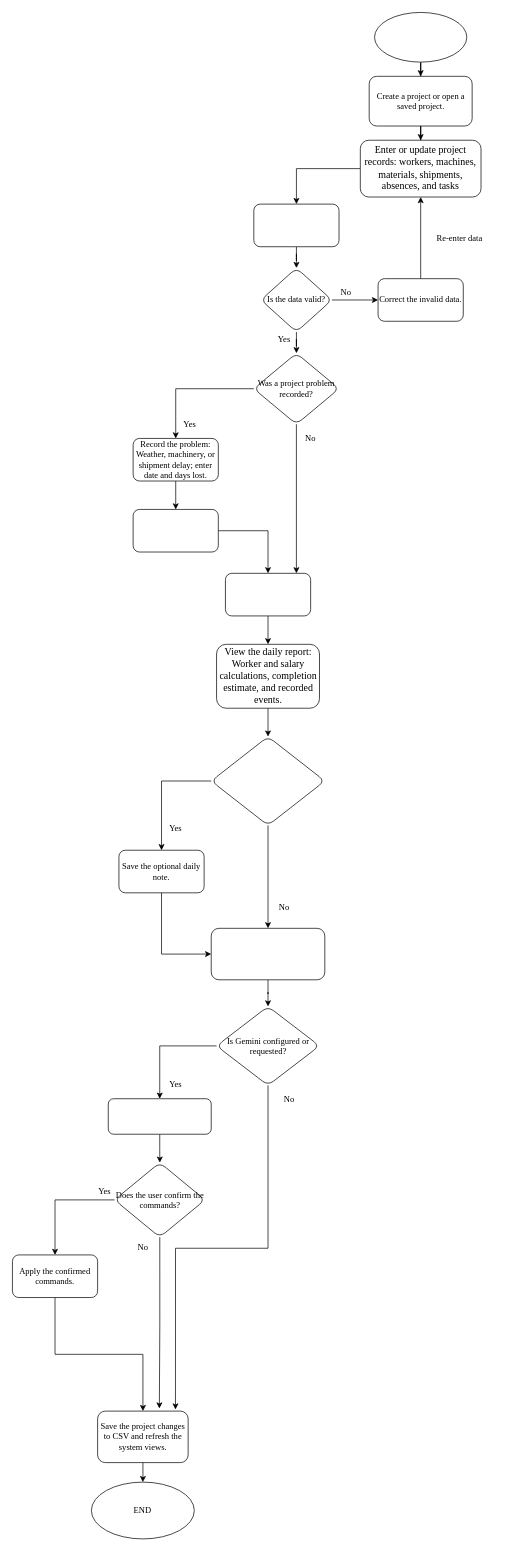
This 508x1551 diagram has some shape labels left out. The shapes that lost their labels are listed below. From the top down, each one's centre as x and y in pixels, then its label:
the point at 420,37: START
the point at 296,225: validate the entered data
the point at 175,530: Recalculate dates for unfinished task
the point at 268,594: Display the task table and updated Gantt Chart
the point at 268,780: Add or update a daily note?
the point at 268,954: Review estimated material, salary, and machine costs and the budget balance.
the point at 159,1116: Interpret the request and show proposed commands
